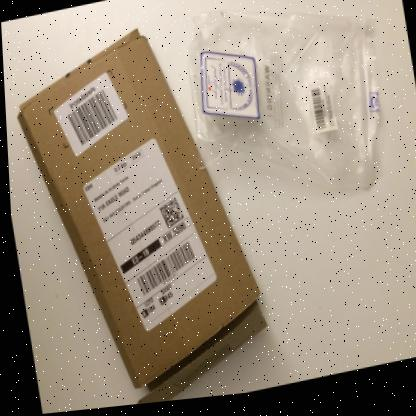Paper: (15, 29, 263, 407)
Plastic: (186, 12, 378, 194)
